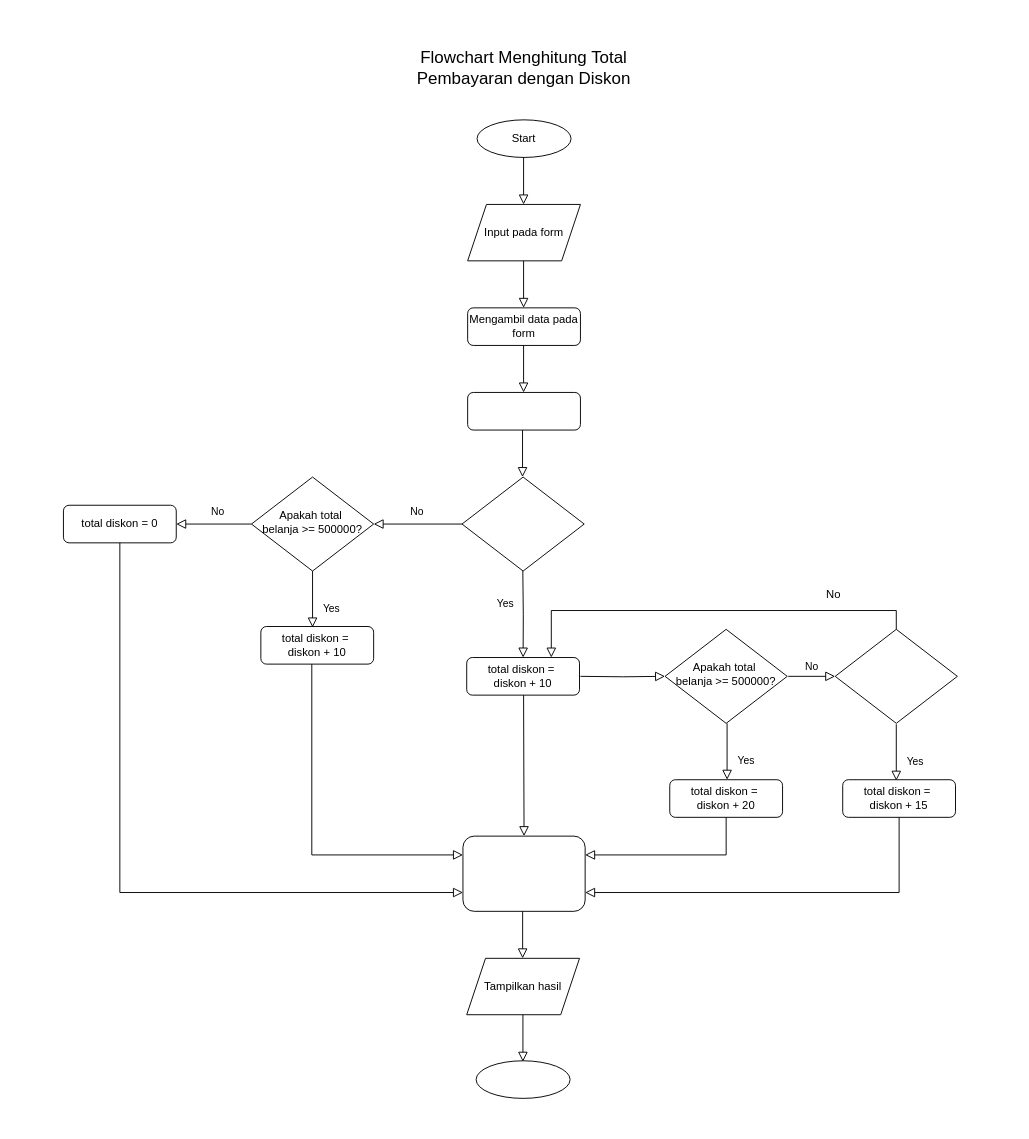
Some shapes in this 1029 by 1139 pixel diagram are drawn without their labels. The shapes that lost their labels are listed below. From the top down, each one's centre as x and y in pixels, then its label:
At point 523,411: "total harga awal = harga * jumlah".
At point 522,523: "Apakah pembeli adalah member?".
At point 895,675: "Apakah total belanja >= 300000?".
At point 523,873: "total harga akhir = total harga awal - diskon".
At point 522,1079: "End".
